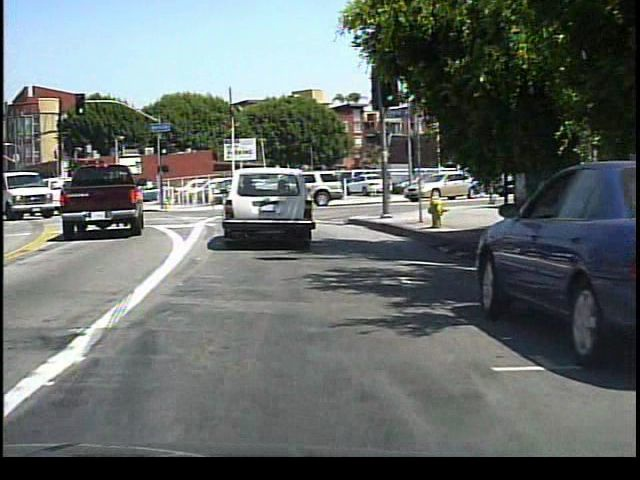person: (380, 165, 397, 203)
